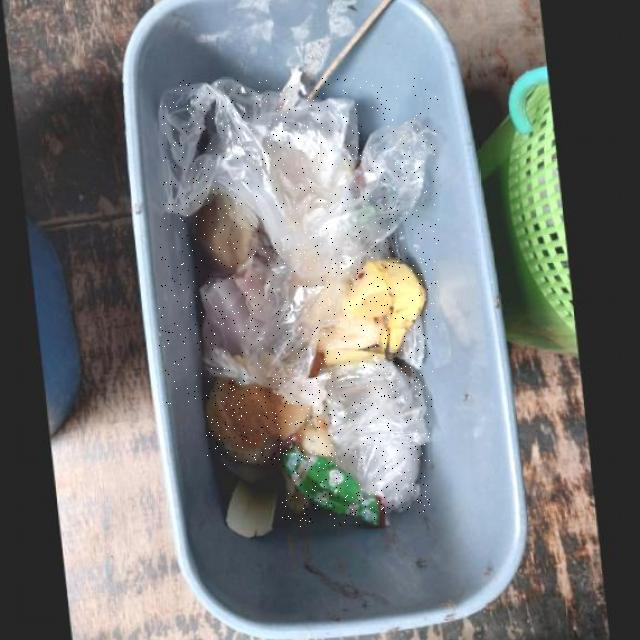biowaste: (207, 377, 334, 465), (317, 257, 427, 351), (326, 348, 386, 364)
plastic: (159, 78, 439, 407), (318, 358, 430, 513)
wrapper: (282, 444, 385, 526)
